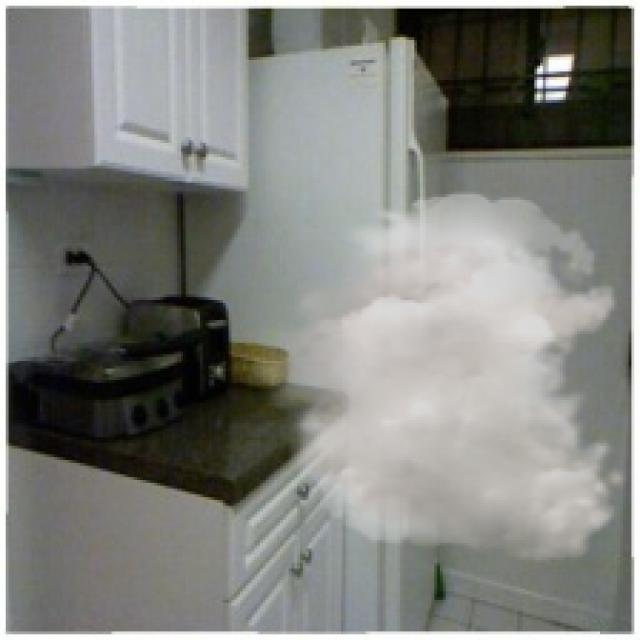Smoke: (240, 191, 629, 563)
